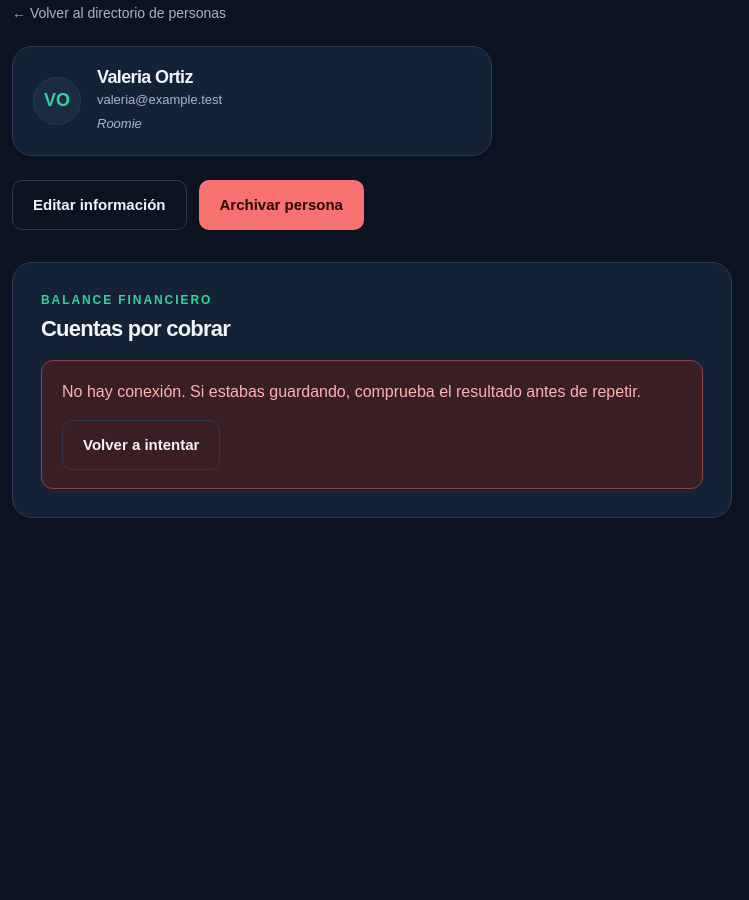
Scenario: PersonDetail › toggles edit form
The image size is (749, 900).
expect the field labelled "Nombre completo o alias" is not shown: met
Click the button "Editar información".
click(99, 205)  # box x1=12 y1=180 x2=186 y2=230
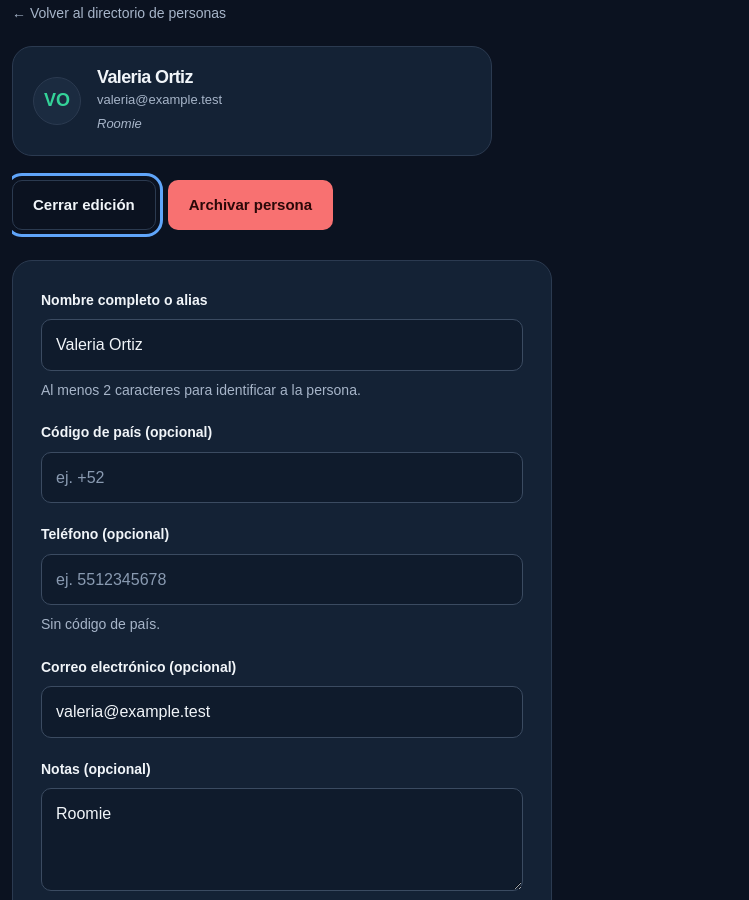
expect the field labelled "Nombre completo o alias" is shown: met, box x1=41 y1=319 x2=523 y2=371
